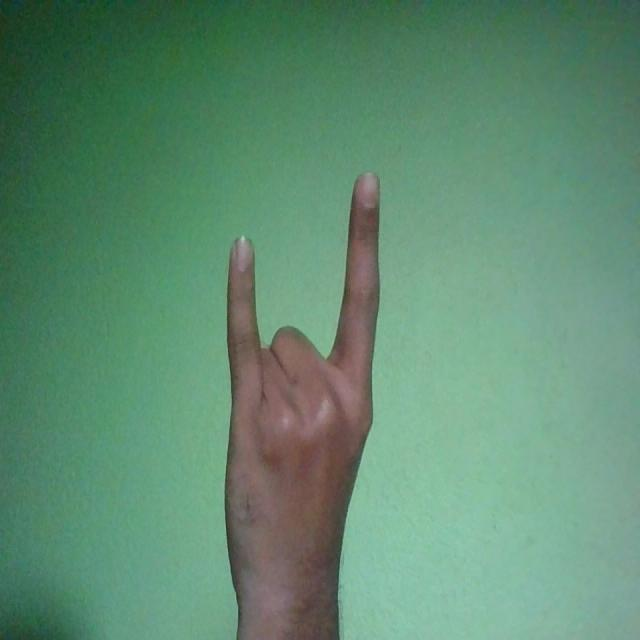open Plam: (223, 168, 381, 632)
